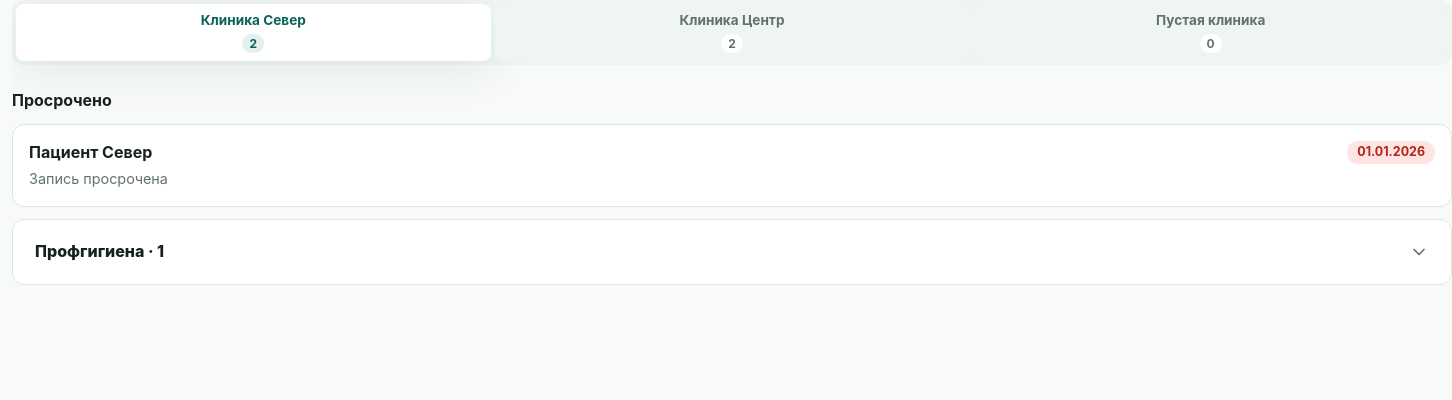
Test: clinic reminder tabs › switches clinics, keeping date groups and a separate hygiene disclosure
The image size is (1452, 400).
Expected: the text named "Напоминаний: 2" is shown, [242, 34, 264, 53]
Expected: the heading "Просрочено" is shown, [12, 90, 112, 110]
What coordinates should you click on to do the following:
click the button "Профгигиена · 1"
I would click on:
 (100, 251)
Its box is [29, 236, 1435, 268].
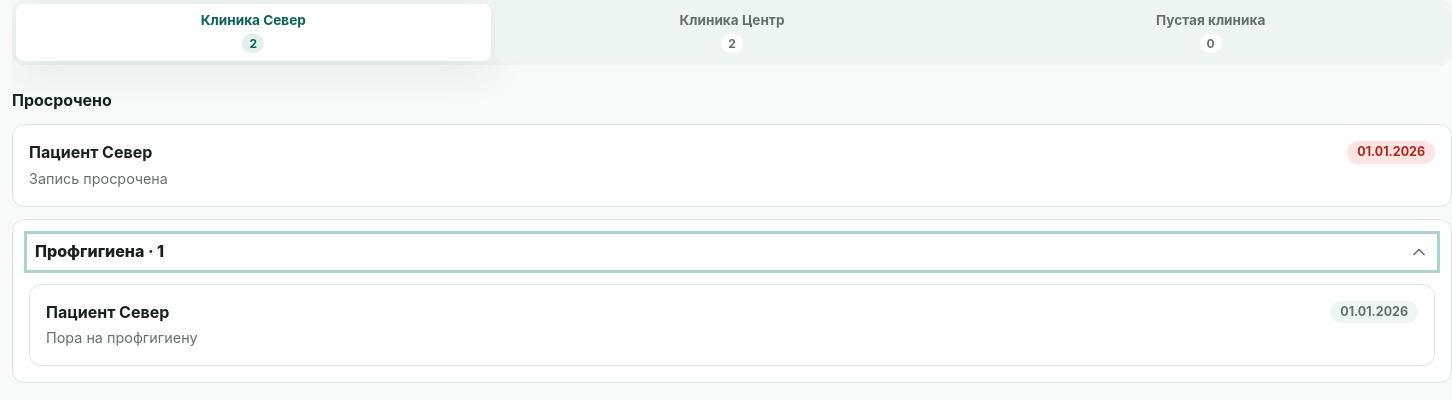
Expected: the text "Пора на профгигиену" is shown, [46, 329, 198, 346]
What coordinates should you click on to do the following:
click the tab "Клиника Центр 2"
I would click on:
 (732, 33)
Its box is [495, 4, 969, 61].
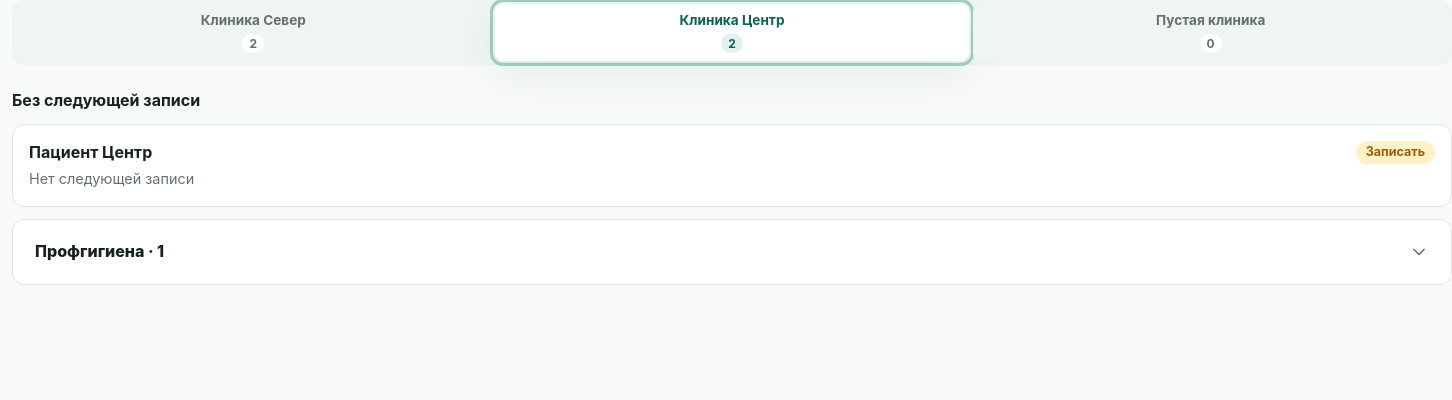
Expected: the heading "Пациент Центр" is shown, [29, 142, 152, 162]
Expected: the link "Пациент Север" is gone
Expected: the heading "Без следующей записи" is shown, [12, 90, 200, 110]
